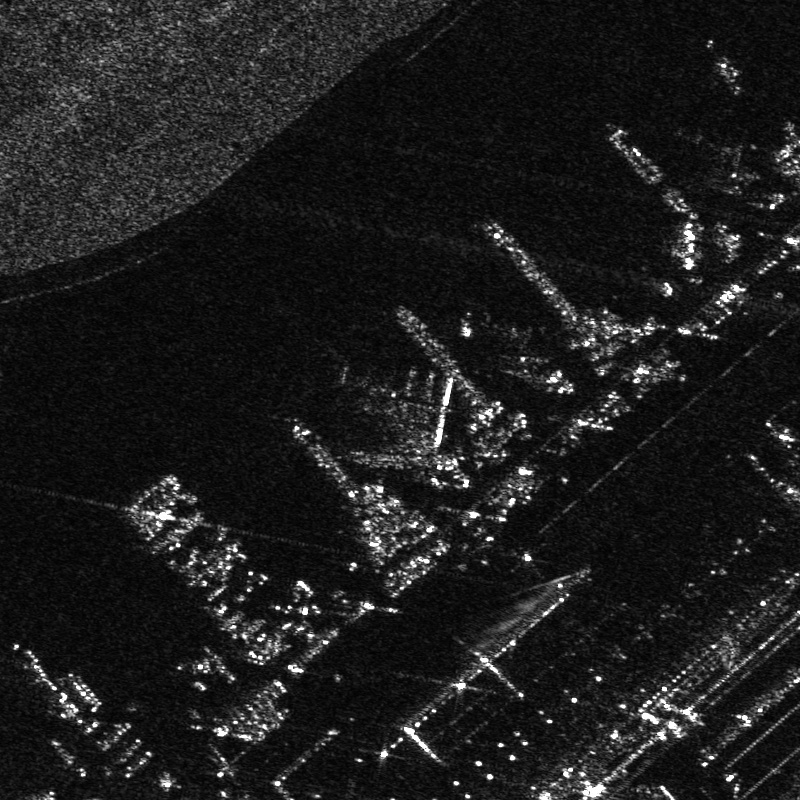Boeing787: (342, 362, 458, 473), (463, 306, 559, 383)
other: (679, 128, 760, 201)
